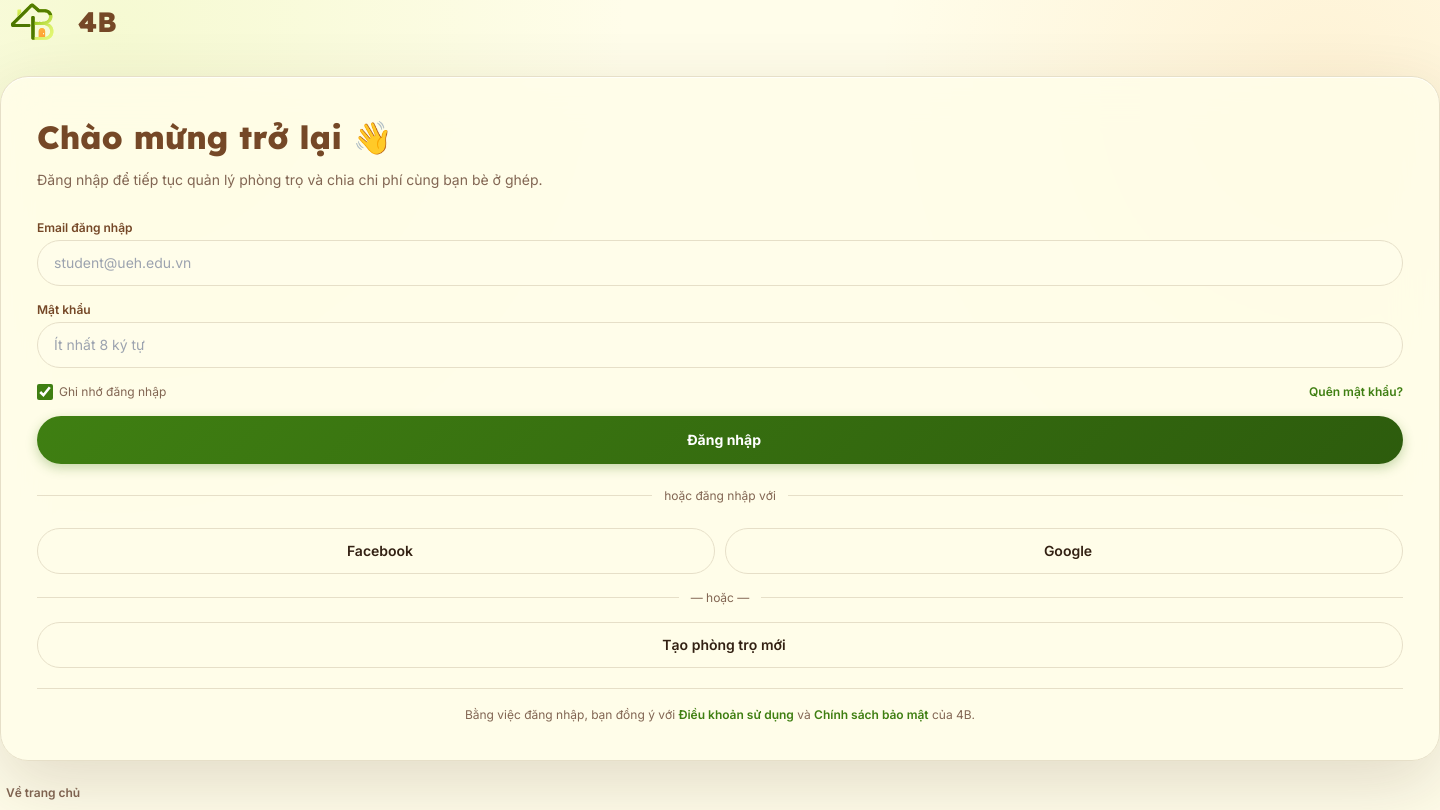
Authentication Pages › LoginPage › shows validation errors when submitting empty form
Click the button "Đăng nhập". click: [720, 440]
box: [37,416,1403,464]
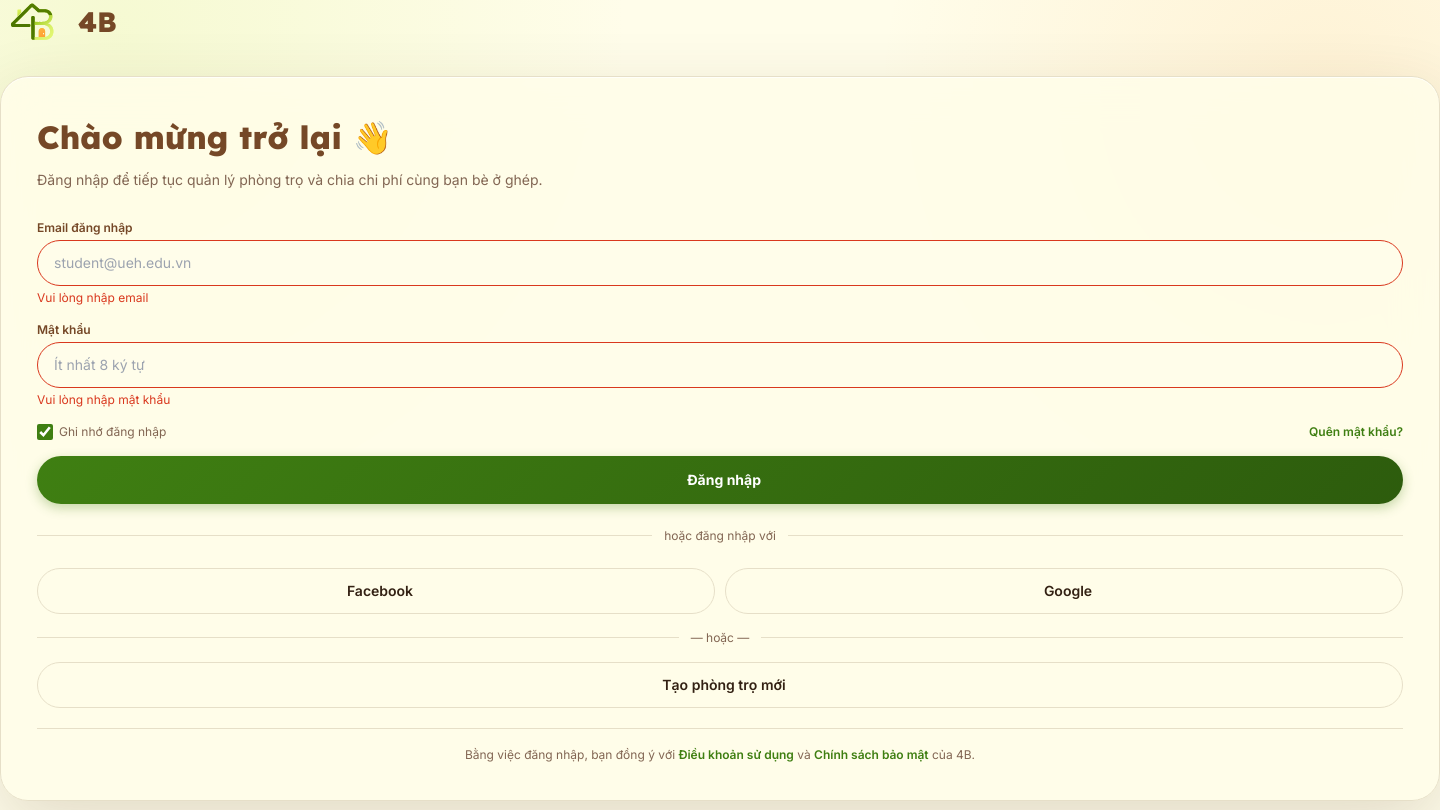
Result: the text "Vui lòng nhập email" is shown at [37,290,148,305]
Result: the text "Vui lòng nhập mật khẩu" is shown at [37,392,170,407]
